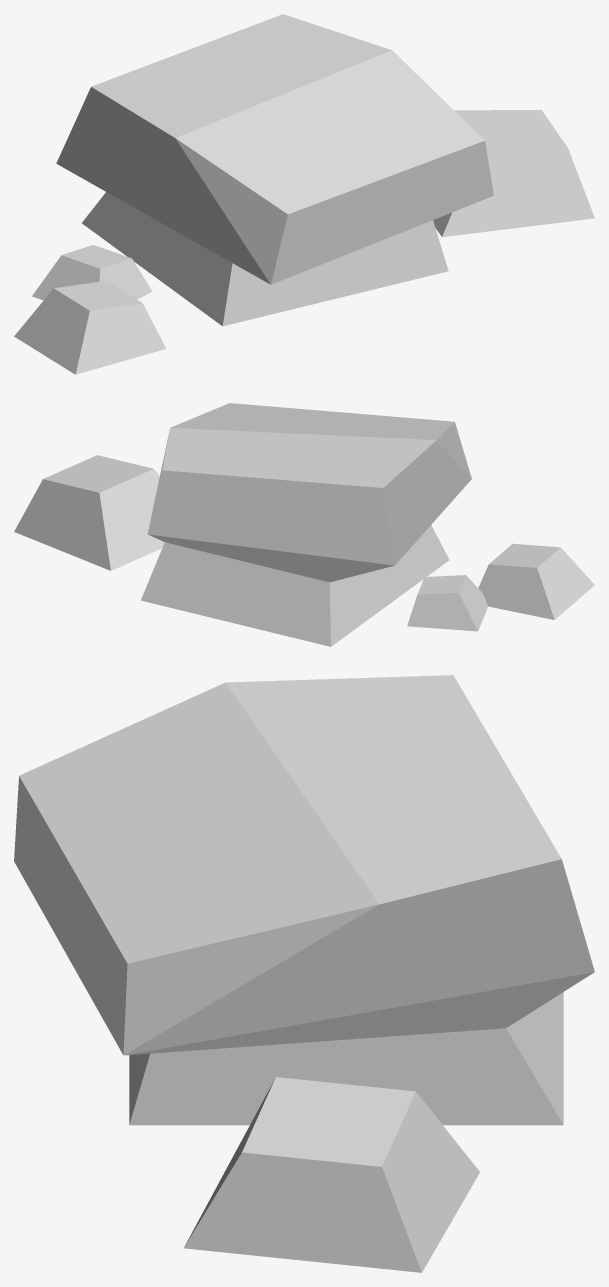
Rendered from obj_rock_4.fbx.
3 views of the same model, one above another, from view 1: azimuth 30°, elevation 25°; view 2: azimuth 150°, elevation 25°; view 3: azimuth 270°, elevation 25° (orthographic). The views are drawn at different scales.
Visible parts, largest first — view 1: obj_rock_4; view 2: obj_rock_4; view 3: obj_rock_4.
Part boxes in pixels (x1,y1,x2,y2): obj_rock_4: [14, 14, 594, 374]; obj_rock_4: [14, 403, 594, 646]; obj_rock_4: [14, 675, 594, 1272].
Size of the model in its own units: 4.04 by 1.11 by 2.24.
1 material, 1 textured.
